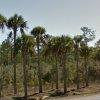Palm tree: (5, 10, 50, 99)
